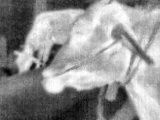eye: (73, 26, 92, 39)
